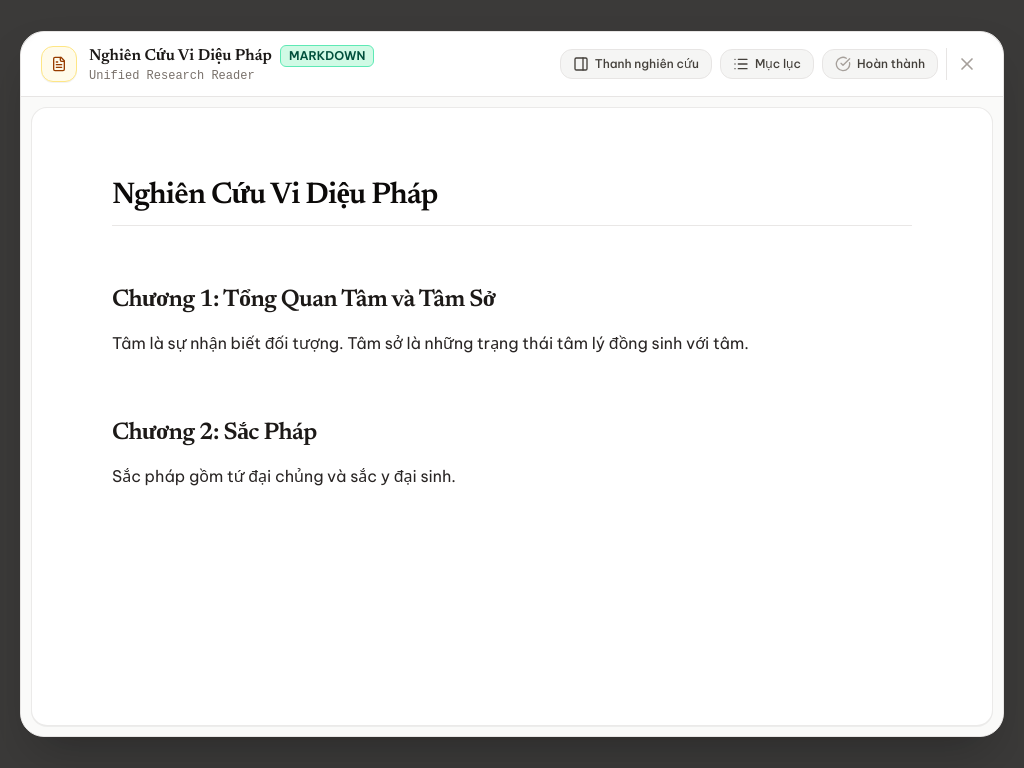
Test: Phase R1: Reader Multi-Tab Sidebar Navigation › 2.1. renders 4 tabs: Outline, Notes, Highlights, and Inbox in reader sidebar
The width and height of the screenshot is (1024, 768).
Open sidebar
Click the button with test id "reader-toggle-sidebar-btn" at (636, 64), box [560,49,712,79]
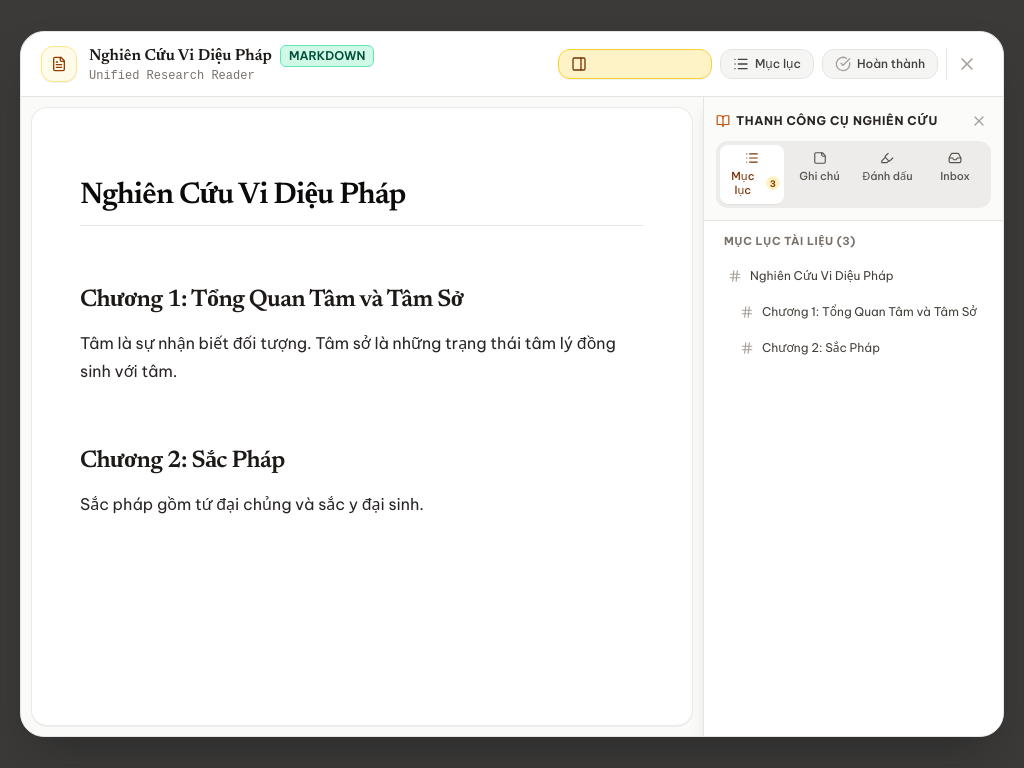
Check: the tab with test id "sidebar-tab-outline" is shown, box [720,145,784,204]
Check: the tab with test id "sidebar-tab-notes" is shown, box [788,145,852,204]
Check: the tab with test id "sidebar-tab-highlights" is shown, box [856,145,919,204]
